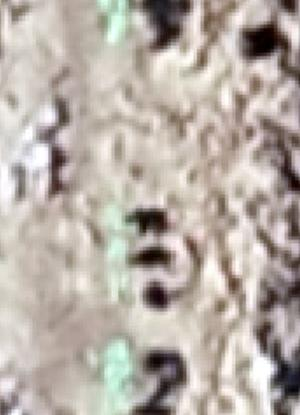cotton: (106, 346, 135, 390), (109, 208, 133, 231), (104, 1, 133, 20), (121, 374, 141, 395), (113, 15, 127, 44), (109, 239, 130, 256)
